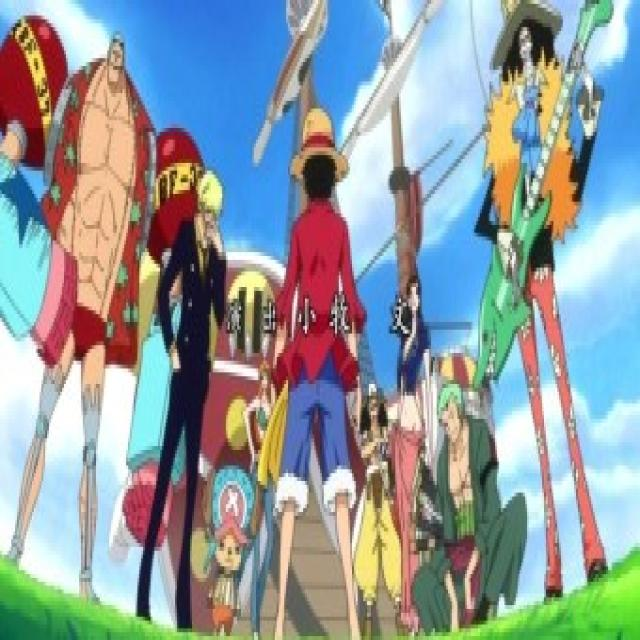Blook: (501, 0, 562, 143)
Chyopa: (191, 463, 257, 640)
Franky: (101, 23, 133, 97)
Luffy: (291, 79, 352, 227)
NicoRobin: (402, 268, 422, 331)
Sangdi: (192, 160, 232, 249)
Usopp: (361, 374, 391, 436)
Zoro: (437, 378, 469, 456)
